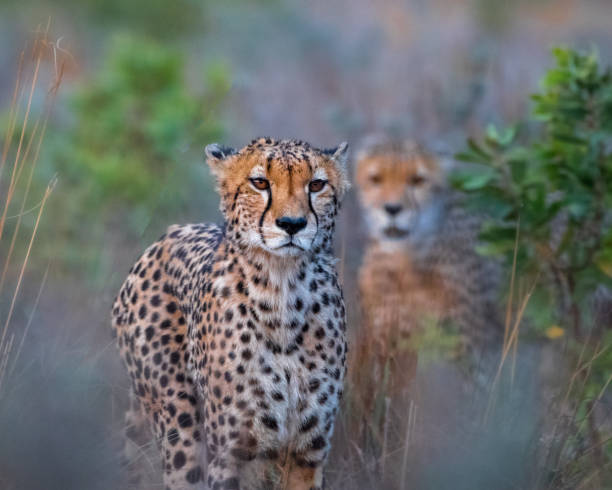cheetah: (197, 130, 356, 268)
